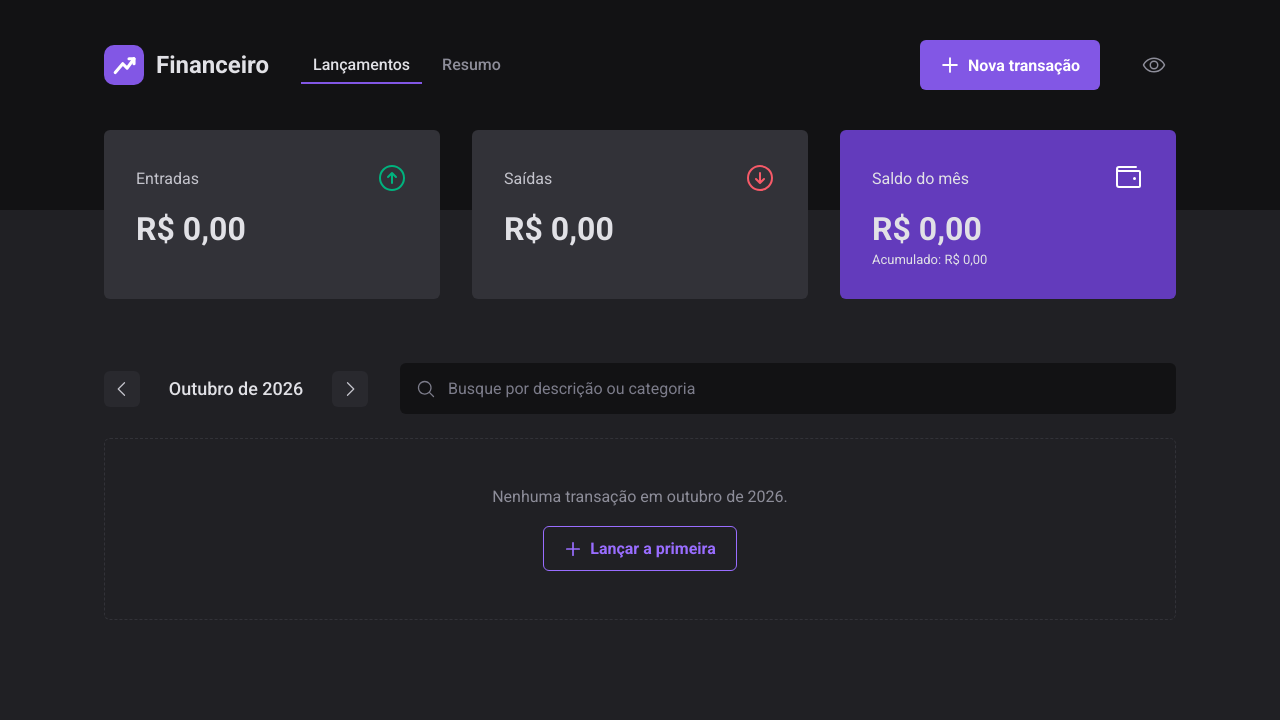
Test: Financeiro › compra em 3x: uma parcela por mês, com o selo 1/3, 2/3…
The width and height of the screenshot is (1280, 720).
Click the button "Nova transação" at (1010, 65), box [920,40,1100,90]
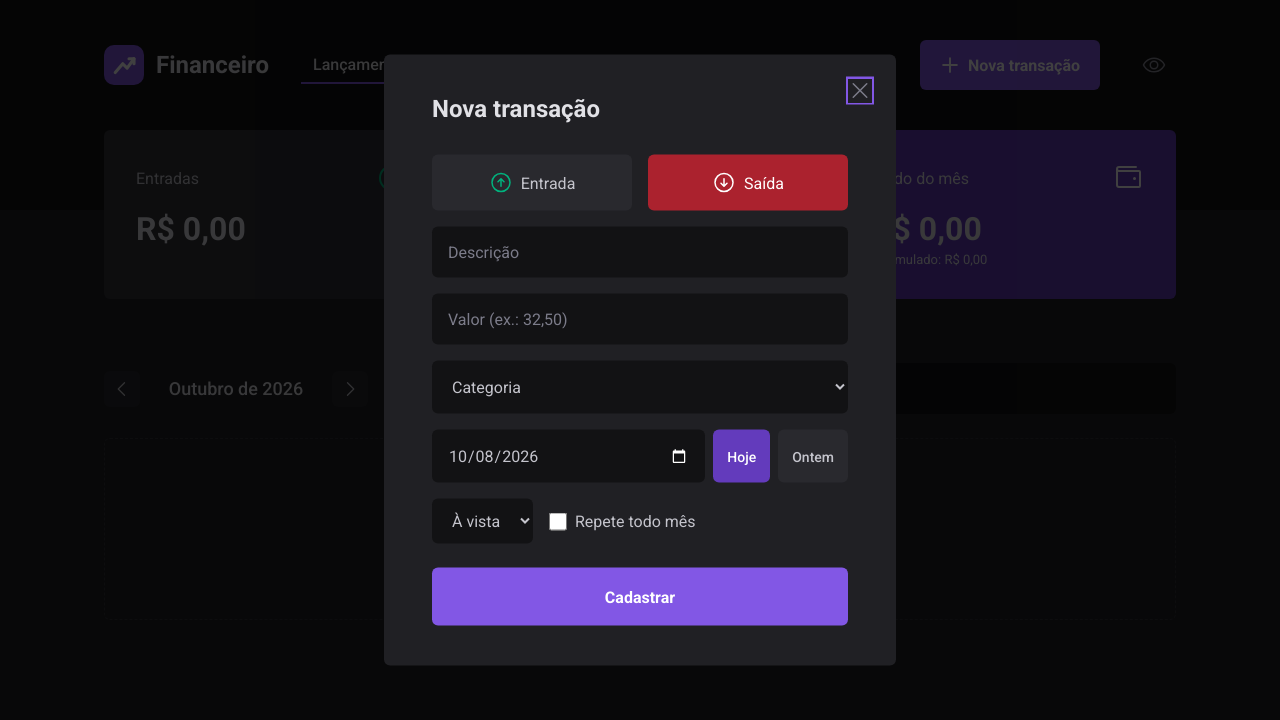
Type "Kit pc" into the field labelled "Descrição" at (640, 252), box [432,226,848,278]
Type "300" into the field labelled "Valor" at (640, 319), box [432,294,848,344]
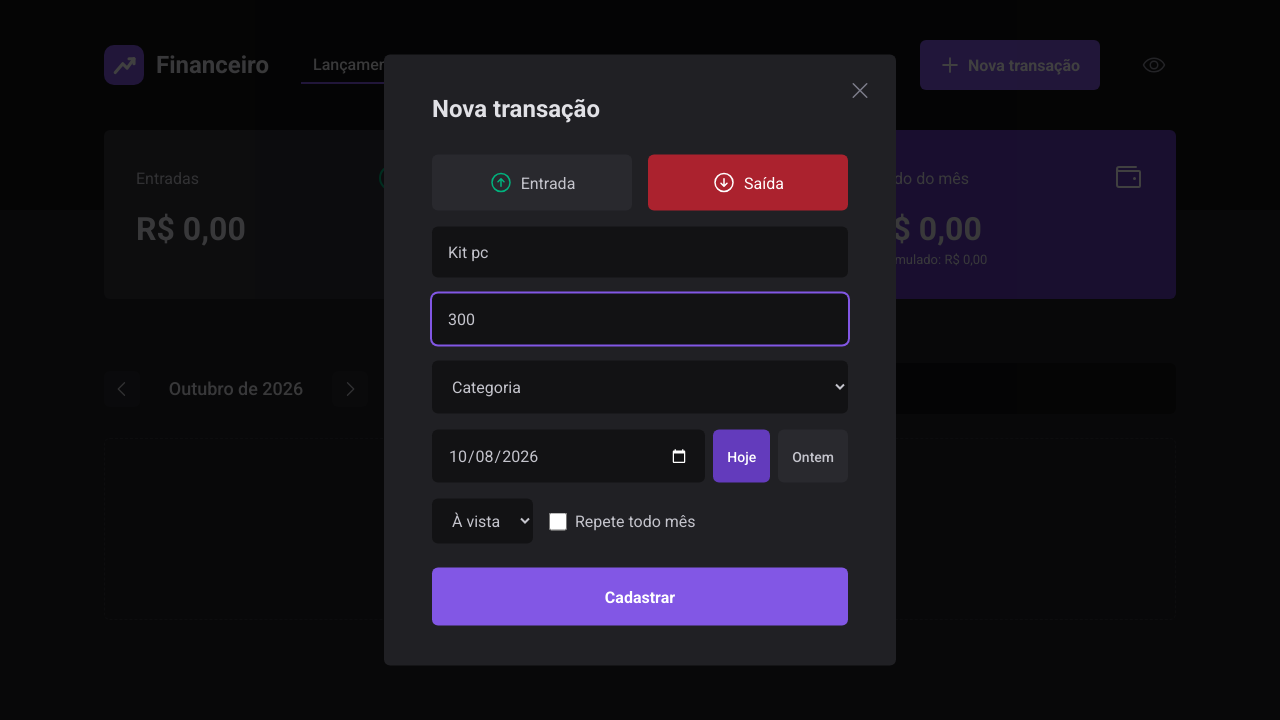
Select "Compras" in the dropdown named "Categoria" at (640, 387), box [432,360,848,414]
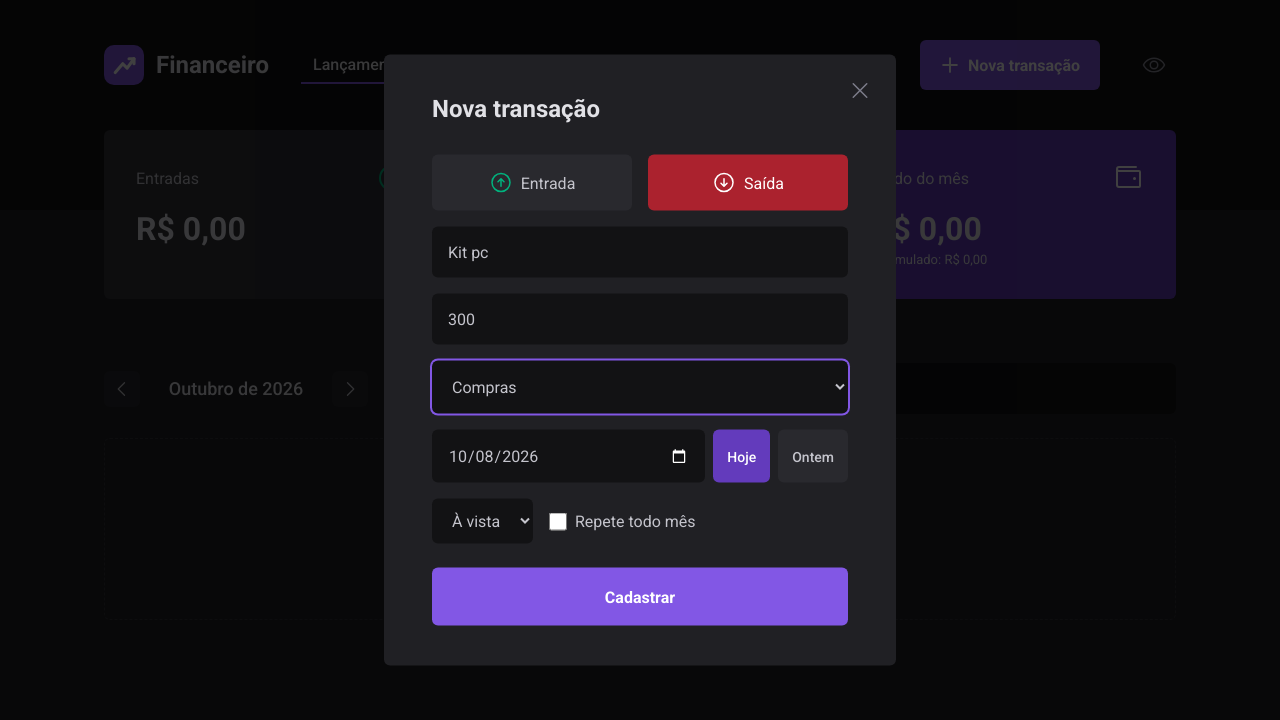
Select "3x" in the dropdown named "Parcelas" at (482, 521), box [432,498,533,544]
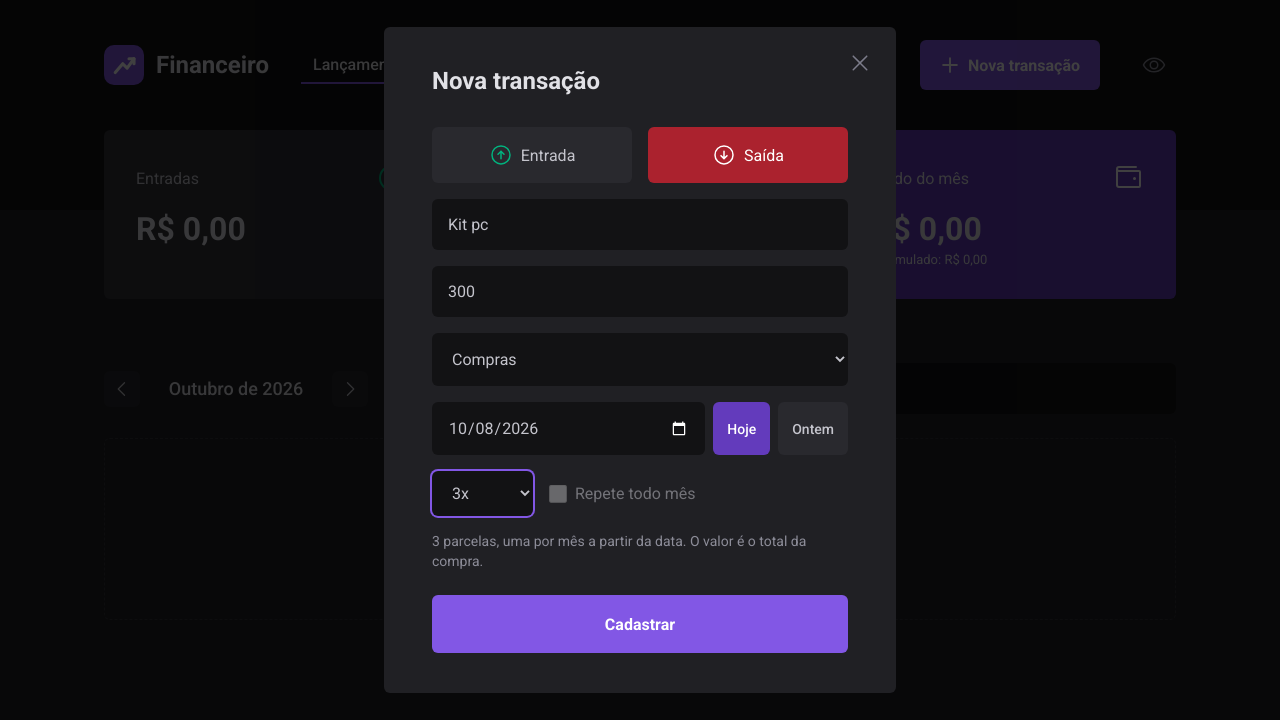
Result: the checkbox labelled "Repete todo mês" is disabled at [549,484,567,502]
Click the button "Cadastrar" at (640, 624), box [432,595,848,653]
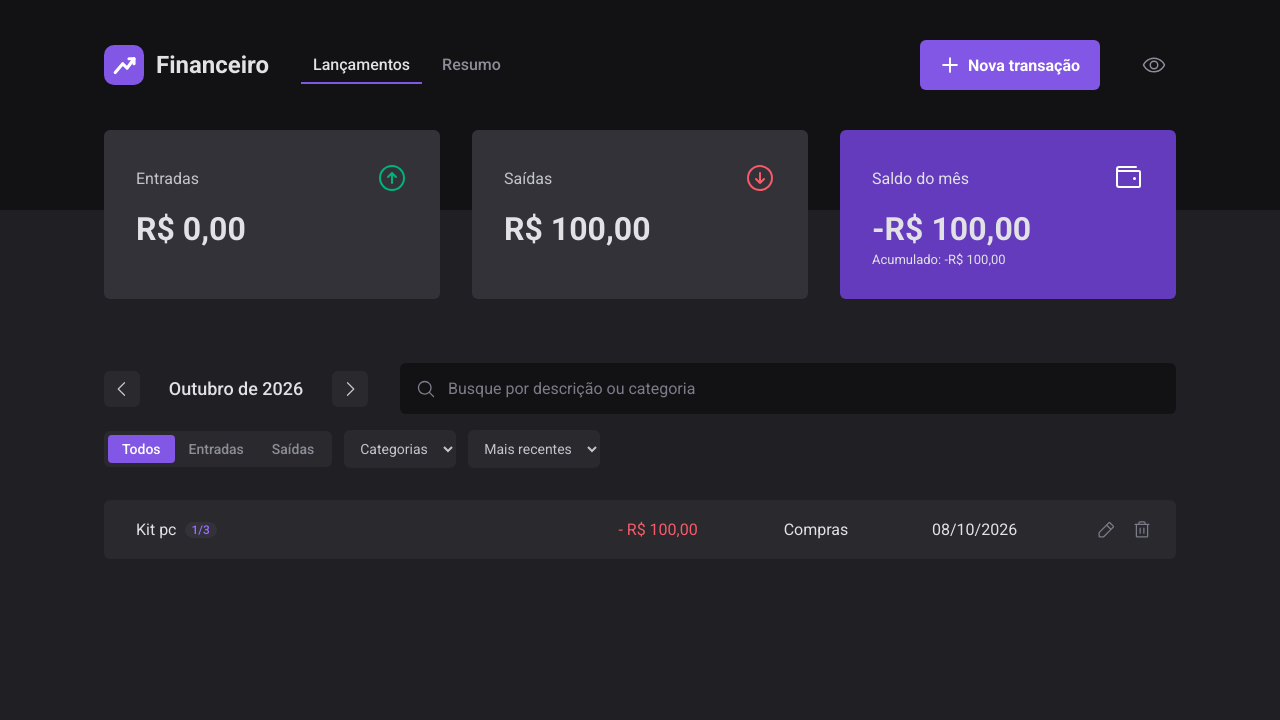
Result: the text "Kit pc" reads "Kit pc 1/3" at [104,500,586,559]
Click the button named "Próximo mês" at (350, 388), box [332,370,368,406]
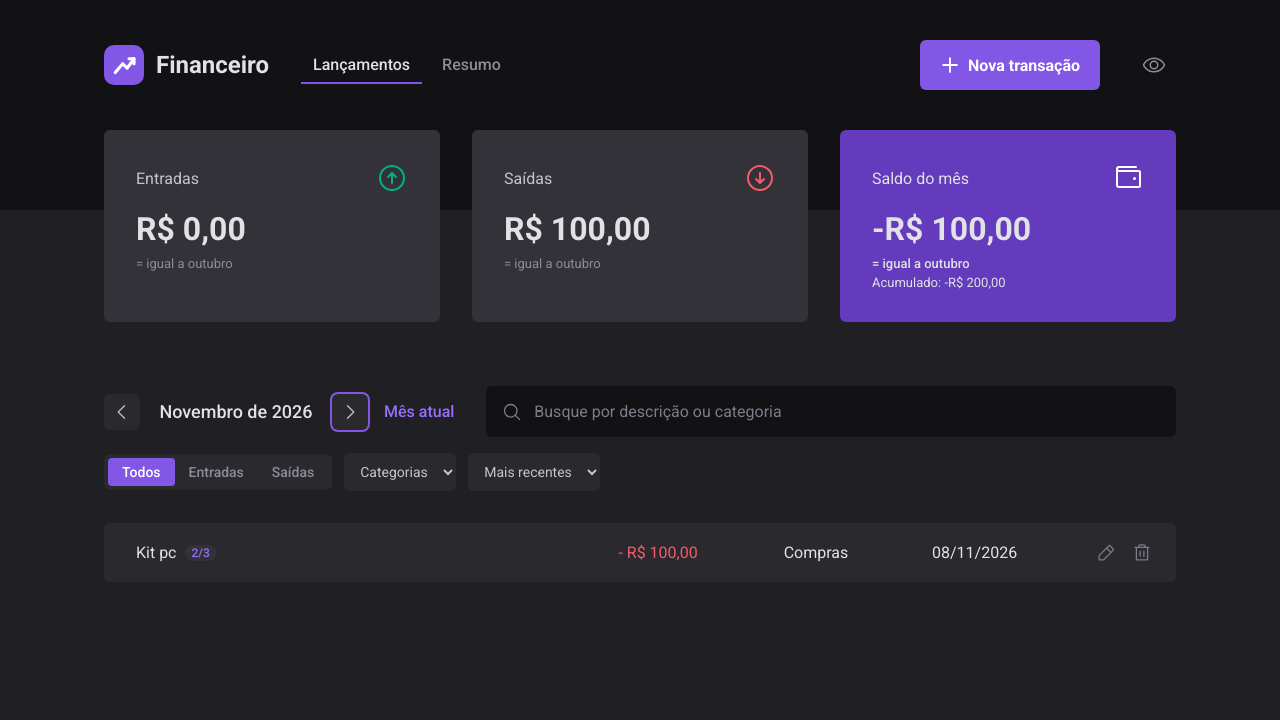
Result: the text "2/3" is shown at [184,545,217,561]
